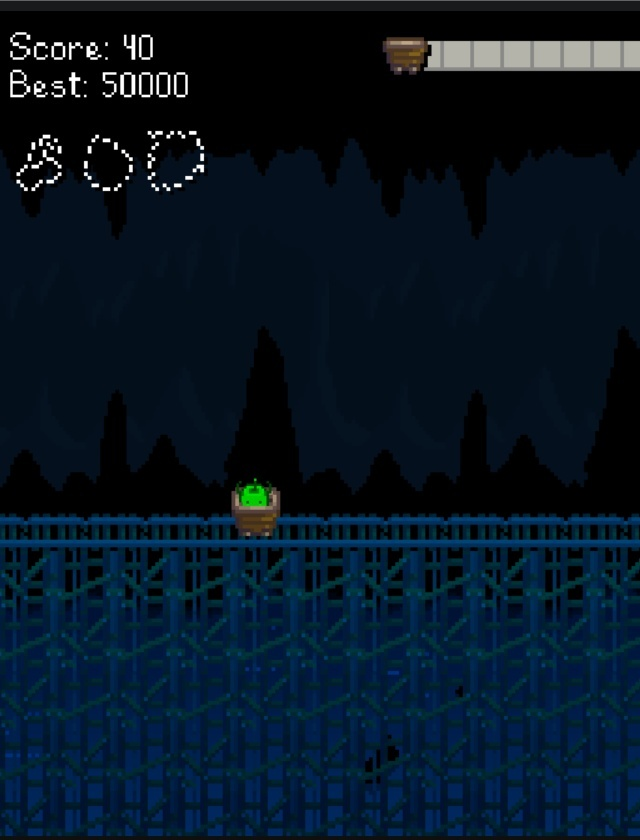minecart: (232, 478, 279, 535)
tracks: (291, 504, 640, 556), (0, 501, 226, 556)
